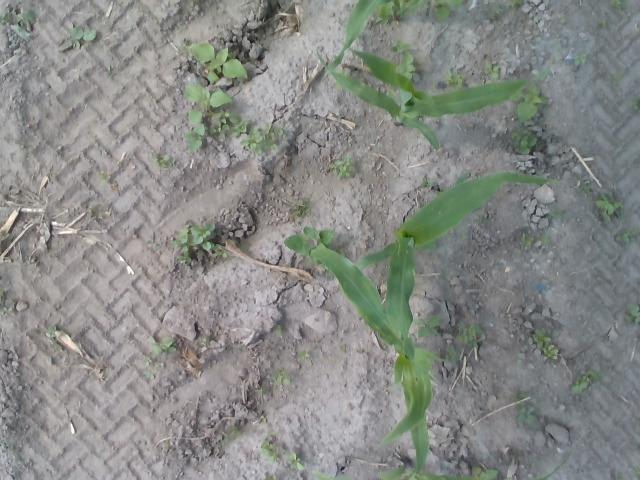Maize: (354, 168, 559, 388), (307, 243, 443, 480), (317, 42, 558, 153), (322, 0, 431, 78), (311, 454, 574, 480)
Weeds: (183, 83, 250, 152), (181, 39, 249, 84), (283, 227, 347, 274), (171, 222, 228, 264), (508, 80, 548, 123), (240, 123, 284, 155), (0, 9, 38, 41), (594, 190, 626, 222), (530, 326, 558, 360), (59, 26, 96, 50), (260, 430, 286, 462), (396, 51, 422, 82), (514, 392, 538, 424), (456, 322, 484, 348), (570, 370, 599, 394), (412, 315, 442, 338), (146, 334, 177, 356), (508, 130, 536, 154), (433, 0, 462, 21), (218, 423, 242, 446), (330, 156, 356, 177), (288, 199, 312, 219), (615, 226, 640, 245), (444, 70, 464, 92), (48, 323, 64, 350), (622, 302, 640, 326), (144, 358, 162, 380), (474, 466, 499, 480), (287, 452, 306, 470), (483, 59, 500, 79), (390, 38, 410, 54), (270, 370, 290, 386), (335, 68, 350, 88), (152, 154, 174, 167), (443, 344, 458, 362), (574, 179, 592, 193), (490, 3, 504, 20), (574, 51, 590, 65), (520, 232, 534, 248), (453, 172, 471, 184), (506, 0, 524, 10), (611, 0, 628, 10), (547, 208, 561, 220), (89, 205, 99, 221), (298, 348, 310, 360), (630, 467, 640, 480), (0, 306, 13, 314), (612, 75, 622, 85), (260, 386, 270, 396), (478, 214, 488, 224), (422, 177, 432, 187), (633, 98, 640, 112), (275, 324, 283, 334), (540, 236, 550, 244), (0, 290, 6, 302), (100, 174, 108, 183), (263, 475, 276, 480), (600, 19, 608, 27), (200, 337, 208, 345), (150, 242, 158, 250), (458, 232, 466, 239), (340, 344, 346, 350), (560, 17, 566, 22), (260, 413, 266, 418)
